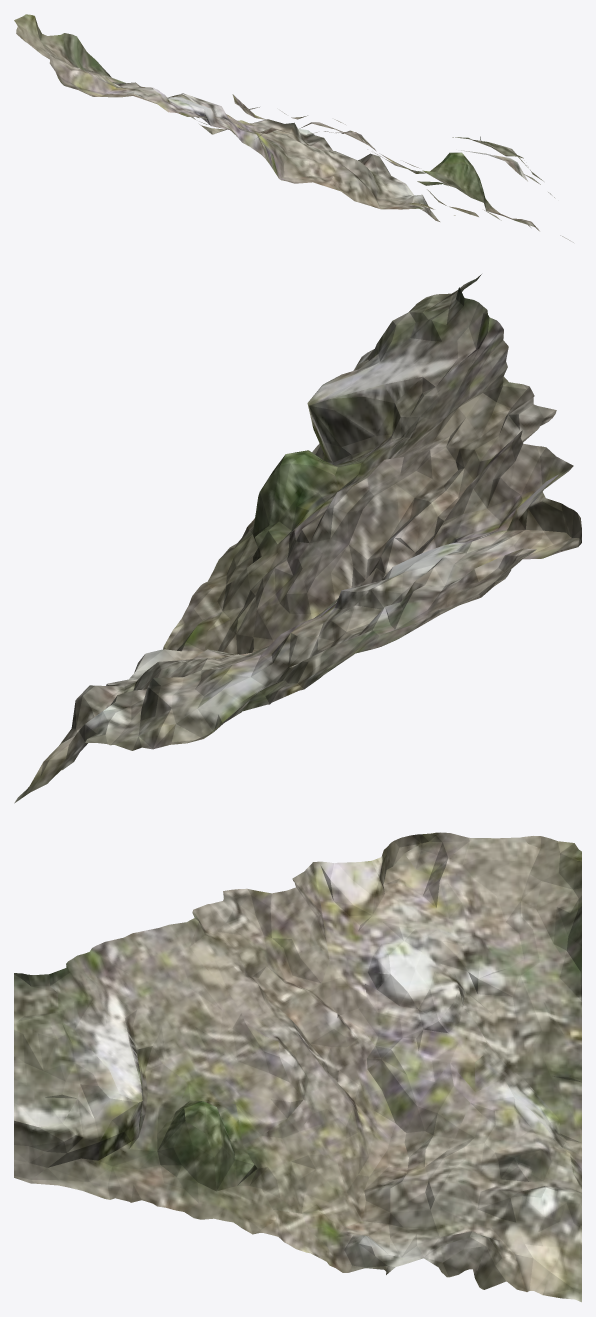
The picture shows the model from 3 angles, top to bottom: view 1: azimuth 30°, elevation 25°; view 2: azimuth 150°, elevation 25°; view 3: azimuth 270°, elevation 25°; orthographic projection. The views are drawn at different scales.
Bounding box in the file's own units: 2.42 × 1.56 × 2.95.
2 materials, 2 textured.
